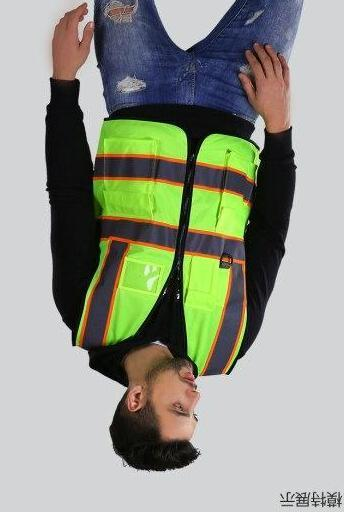Vest: (90, 112, 250, 368)
